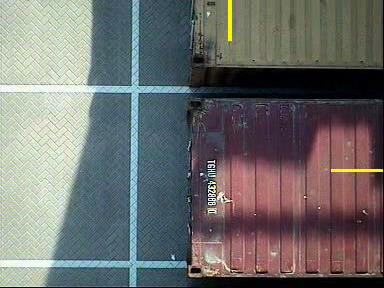groundmarker_2: (105, 84, 168, 117), (105, 235, 168, 268)
